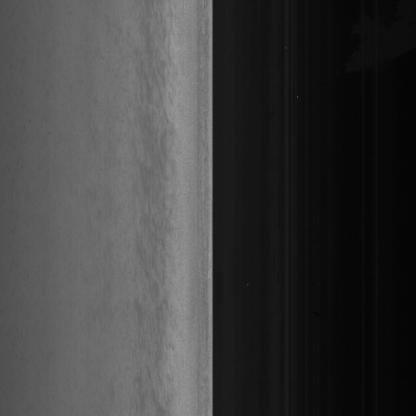silk_spot: (138, 157, 177, 291)
